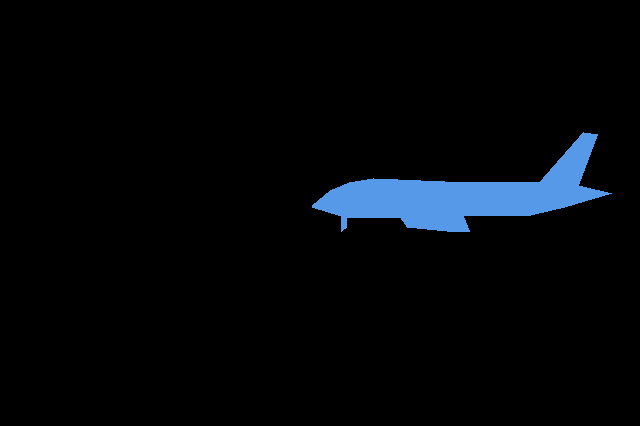Airplane: (312, 132, 611, 232)
